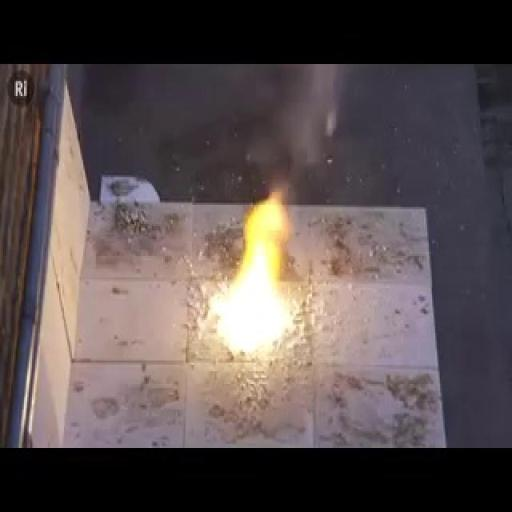smoke: (204, 166, 303, 365)
